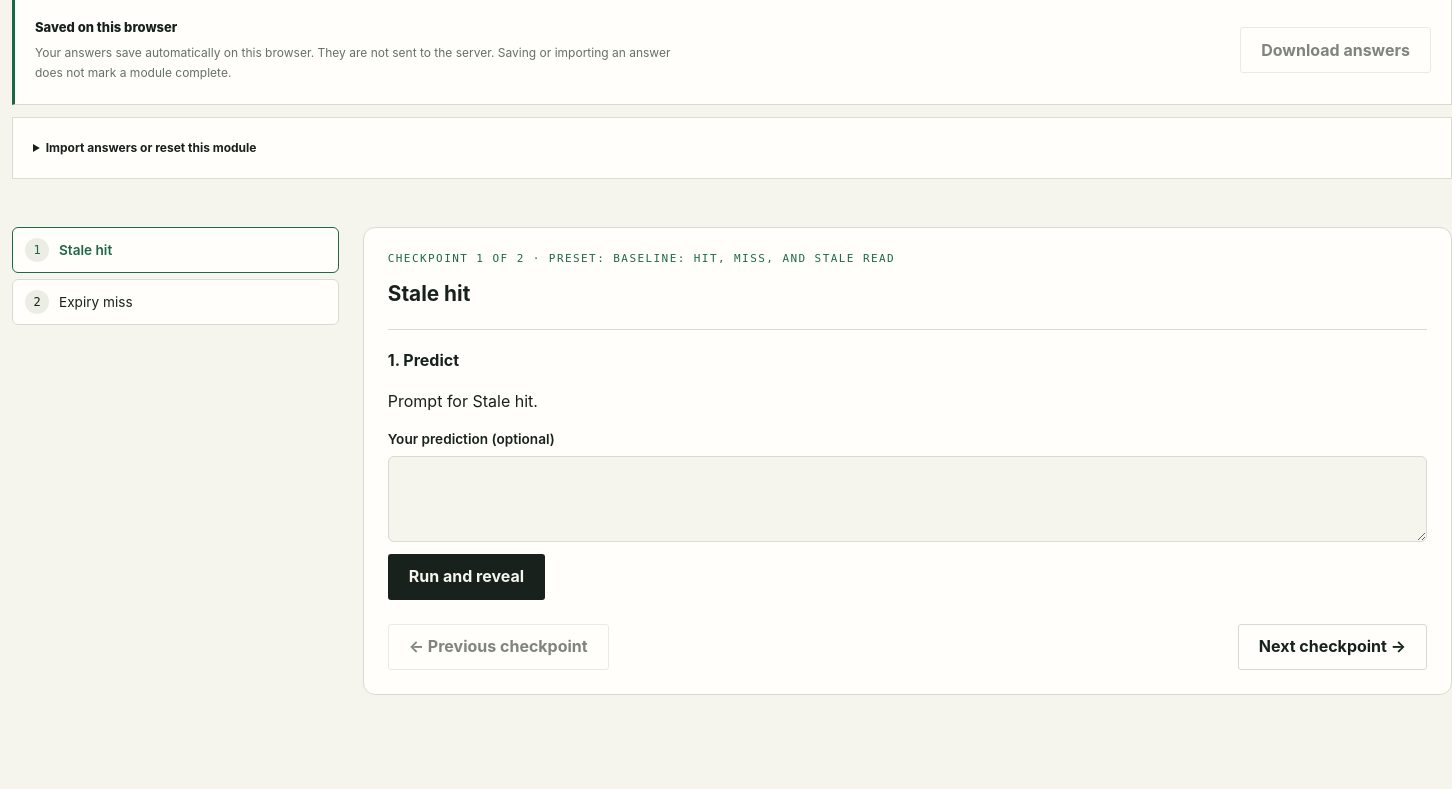
Scenario: GuidedCheckpoints › explains a weaker tradeoff choice next to the recommended one
Click the button "Run and reveal" at (466, 576), box [388, 554, 545, 600]
(page scrolled)
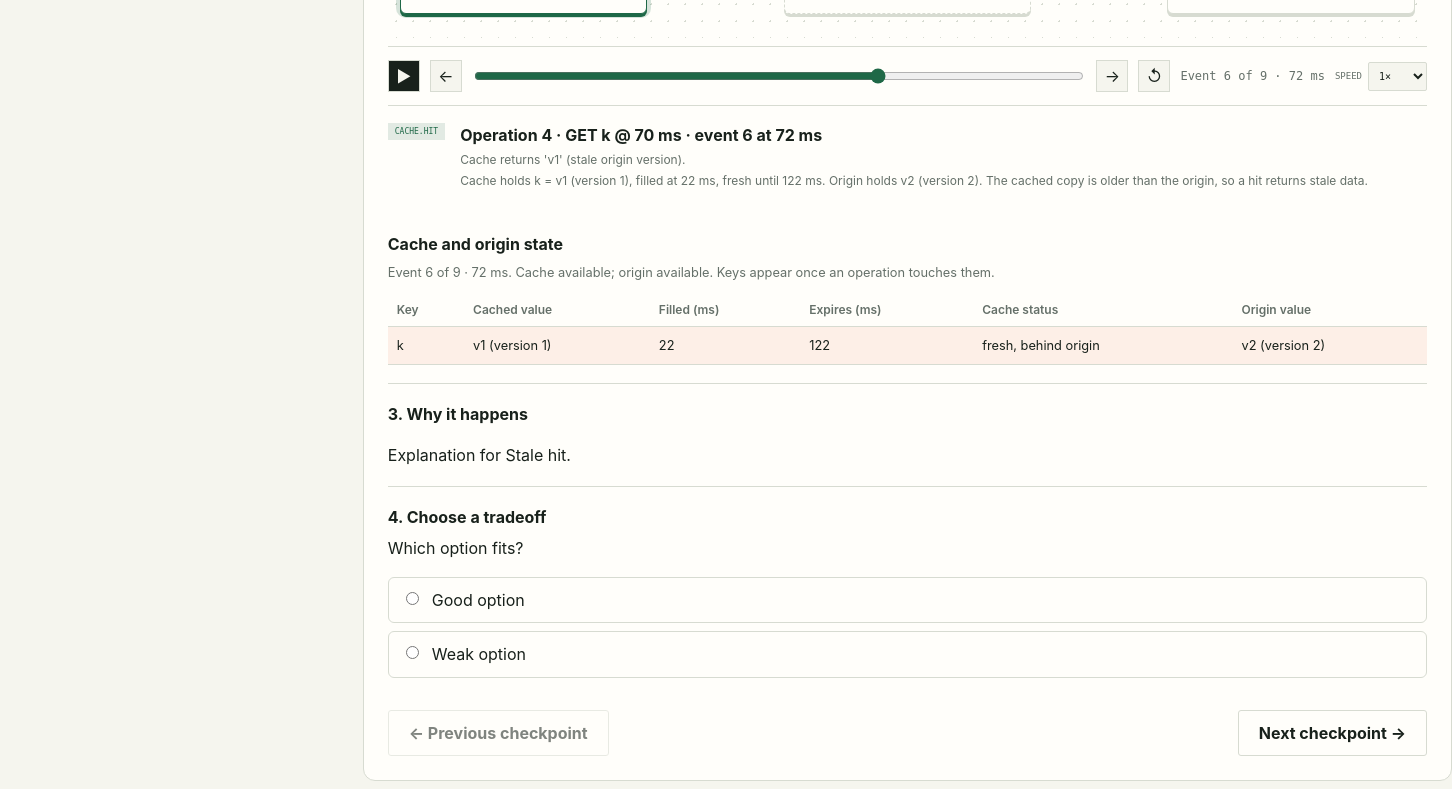
Click the radio button labelled "Weak option" at (412, 653), box [406, 646, 419, 659]
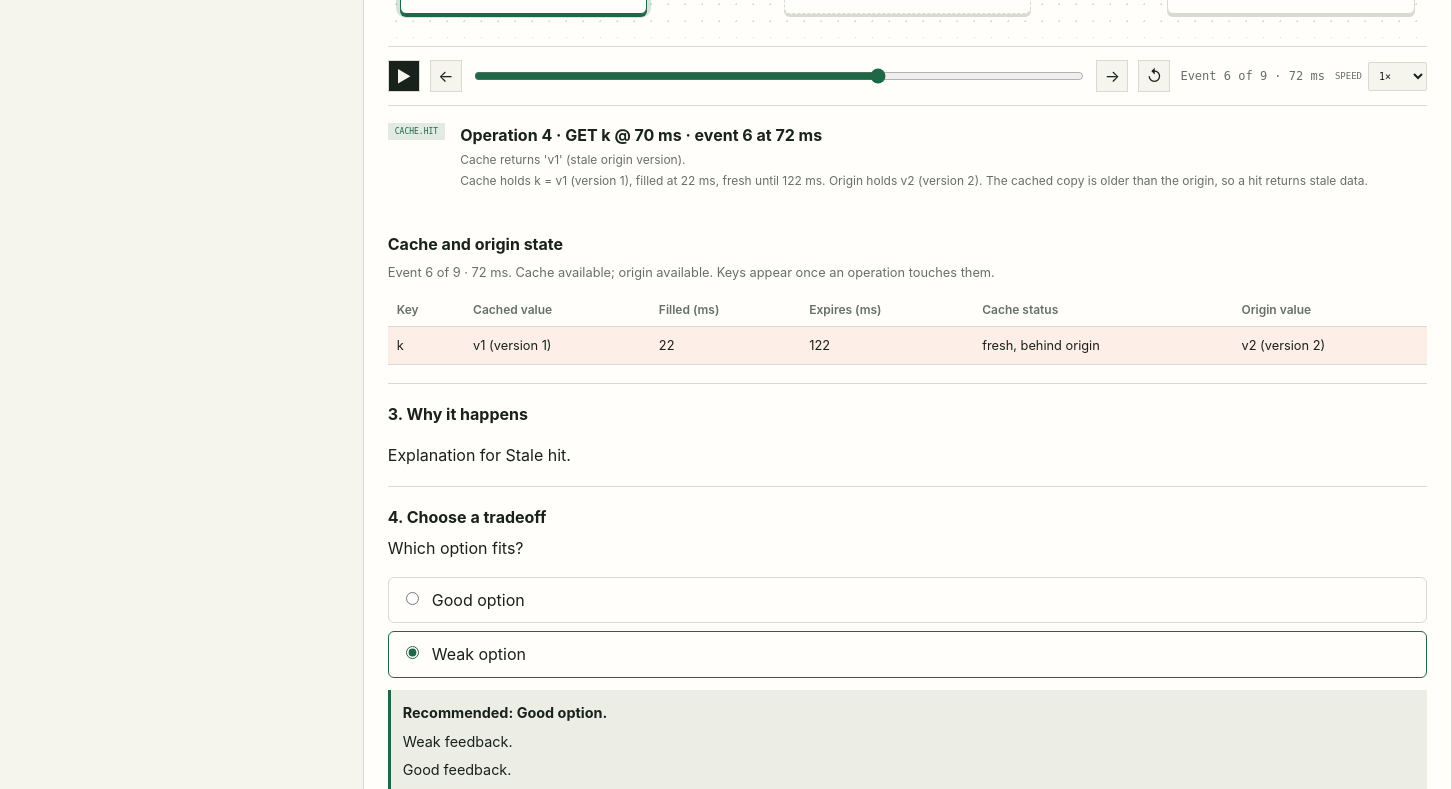
Now the message shows "Recommended: Good option.", box [403, 704, 607, 721]
Now the message shows "Weak feedback.", box [403, 732, 513, 750]
Now the message shows "Good feedback.", box [403, 761, 512, 778]
Click the radio button labelled "Good option" at (412, 598), box [406, 592, 419, 605]
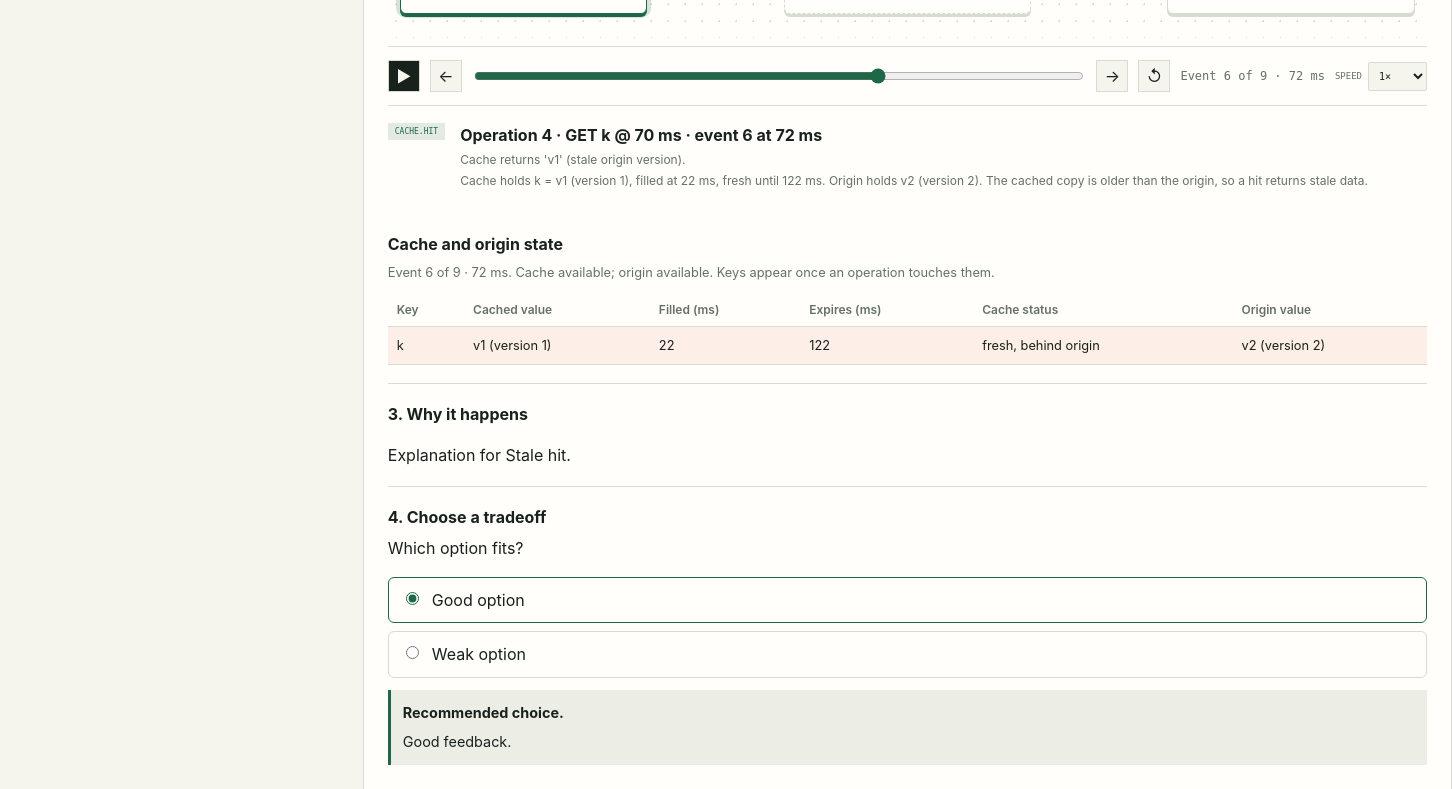
Now the message shows "Recommended choice.", box [403, 704, 564, 721]
